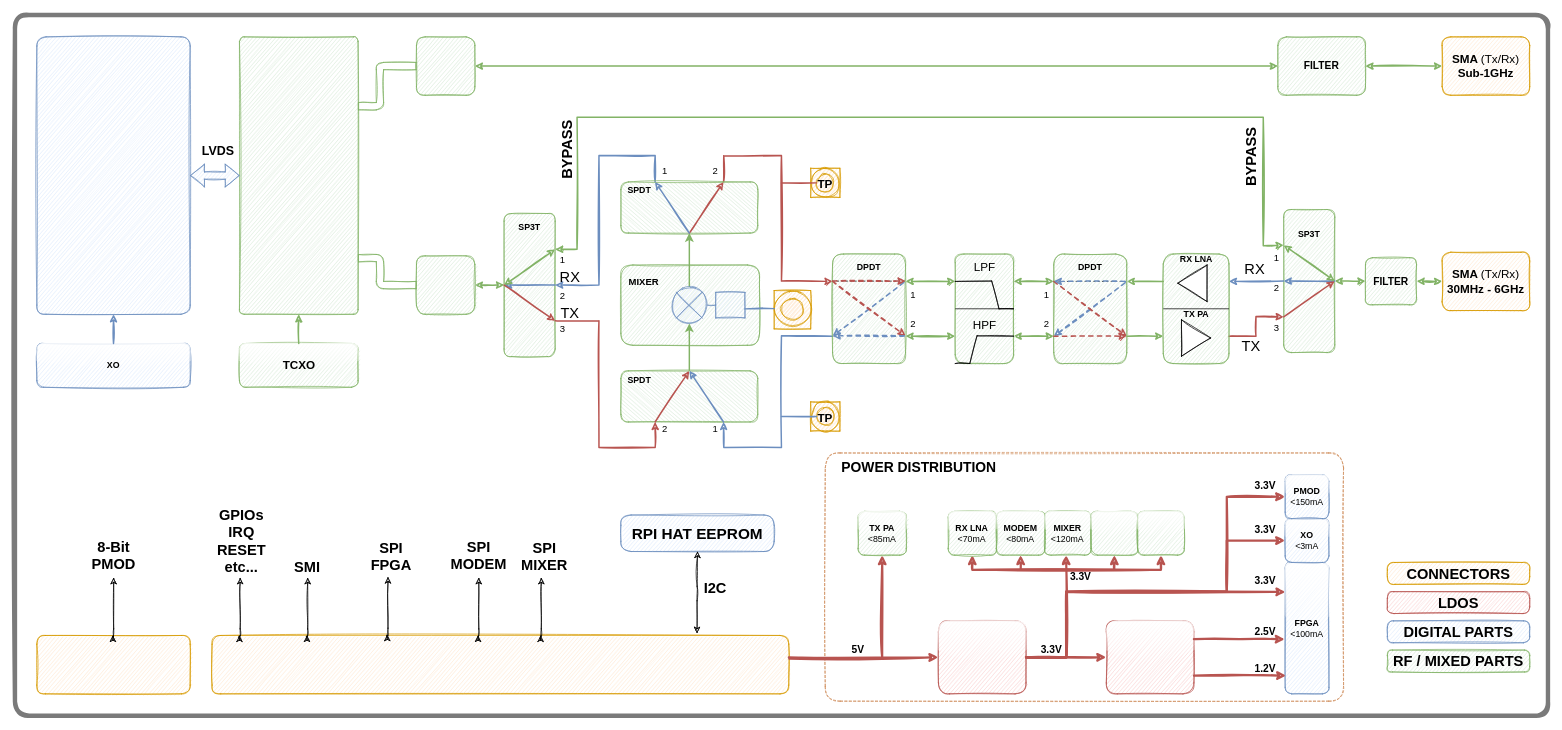
The diagram is 1562 pixels wide and 730 high, and some of its shapes have lost their labels. Each missing label, with the centre of its shape:
BALUN 2.4GHz: (445,284)
BALUN Sub1GHz: (445,65)
EXT REF: (792,309)
FPGA Lattice Semiconductors ICE40LP1K-QN84: (113,175)
LDO LDL212PV33R Needed : <600mA Supports : 1.2A Pt : <1Watt: (982,657)
LDO x2 TLV7111225DSER: (1150,657)
LO: (730,305)
MODEM MICROCHIP AT86RF215-ZU 389.5-510MHz 779-1020MHz 2400- 2483.5MHz: (298,175)
PMOD 8-Bit Connector: (113,664)
RASPBERRY PI 40-PIN HEADER: (500,664)
RFFE SW <3mA: (1114,533)
TCXO <8mA: (1160,533)
